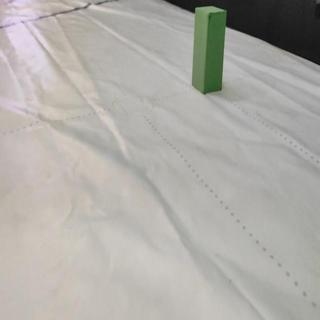greenbox: (192, 7, 226, 95)
